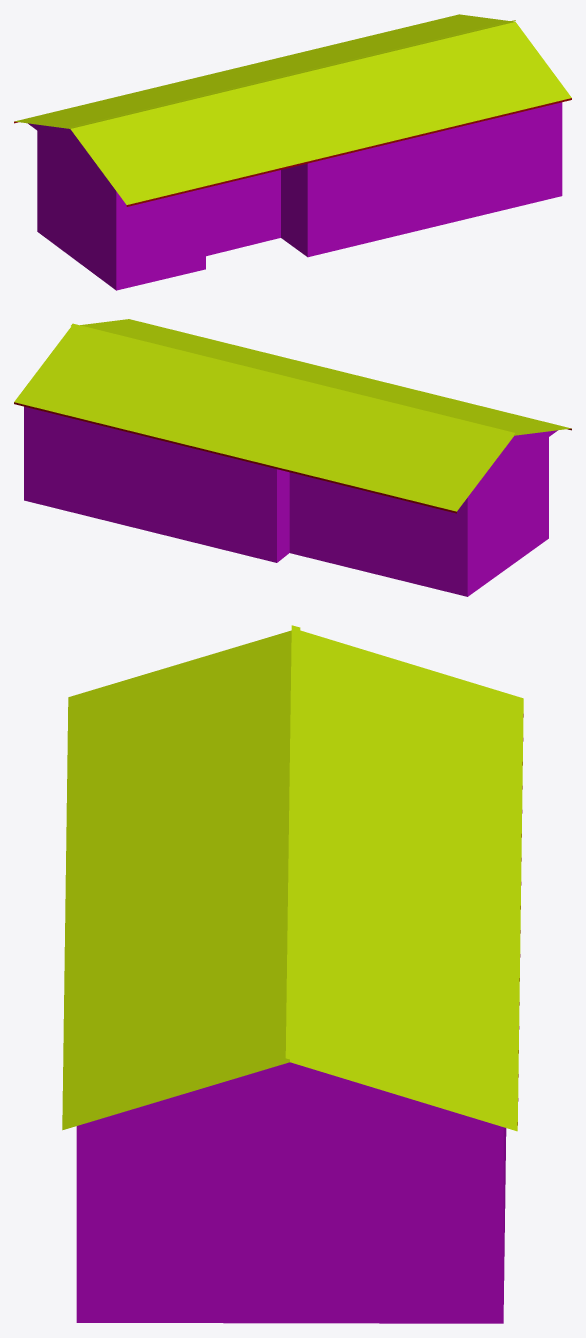
File: ces_34.glb
3 renders of one model, top to bottom at view 1: azimuth 30°, elevation 25°; view 2: azimuth 150°, elevation 25°; view 3: azimuth 270°, elevation 25°, orthographic. The views are drawn at different scales.
Parts seen in each view (by area): view 1: ces_34; view 2: ces_34; view 3: ces_34.
Part boxes in pixels (x1,y1,x2,y2): ces_34: (14,14,571,290); ces_34: (14,319,571,596); ces_34: (62,625,523,1323).
Size of the model in its own units: 28.91 by 8.41 by 12.98.
